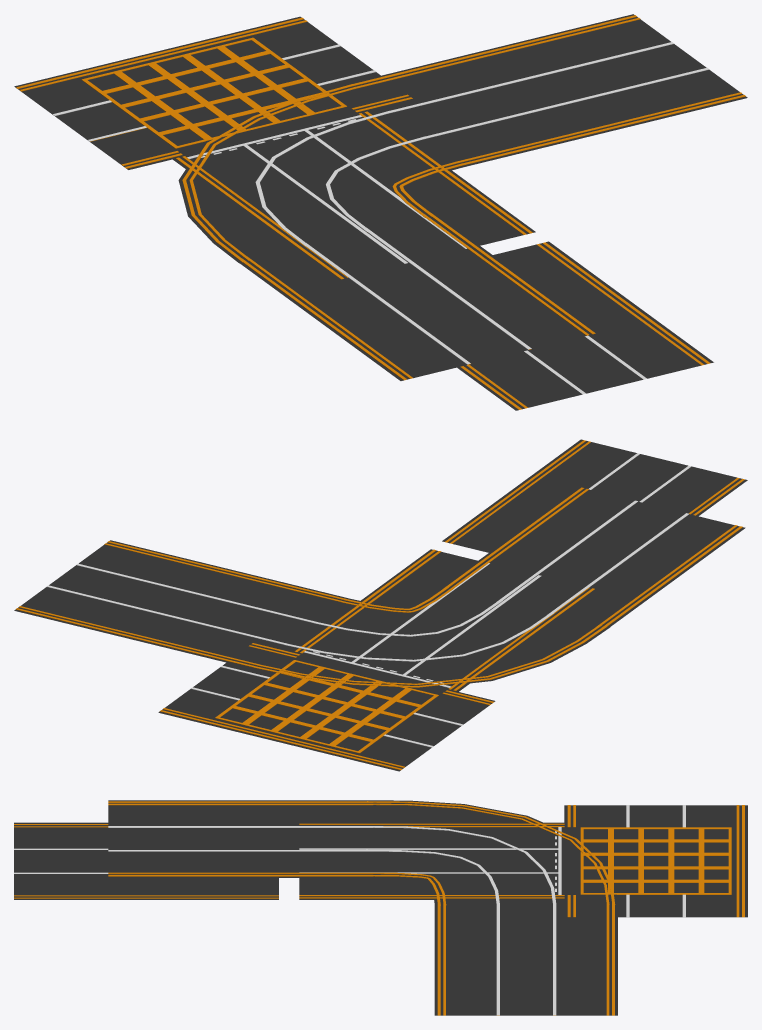
Rendered from Road_JunctionFix.fbx.
3 renders of one model, top to bottom at view 1: azimuth 30°, elevation 25°; view 2: azimuth 150°, elevation 25°; view 3: azimuth 270°, elevation 25°, orthographic. The views are drawn at different scales.
Visible parts, largest first — view 1: Turn, Junction Mid, BaseRoad.002, JunctionStart; view 2: Turn, Junction Mid, BaseRoad.002, JunctionStart; view 3: Turn, Junction Mid, BaseRoad.002, JunctionStart.
Boxes of the visible parts, box(x1,y1,x2,y2) form: Turn: box(178, 14, 747, 380); Junction Mid: box(14, 16, 412, 169); BaseRoad.002: box(457, 241, 713, 410); JunctionStart: box(173, 111, 535, 279); Turn: box(14, 487, 745, 689); Junction Mid: box(158, 643, 495, 771); BaseRoad.002: box(442, 439, 747, 552); JunctionStart: box(294, 549, 594, 691); Turn: box(108, 800, 618, 1015); Junction Mid: box(564, 805, 747, 917); BaseRoad.002: box(14, 822, 278, 899); JunctionStart: box(299, 822, 564, 899).
Size of the model in its own units: 2502 by 2.93 by 3600.
